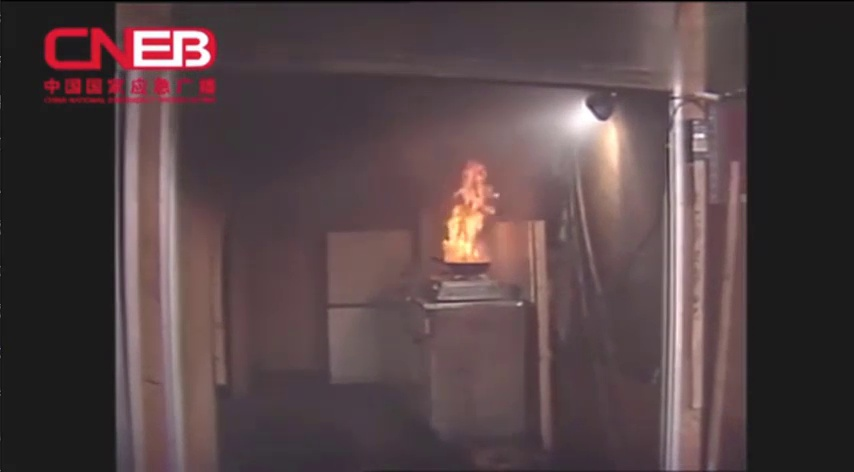fire: (432, 151, 504, 269)
